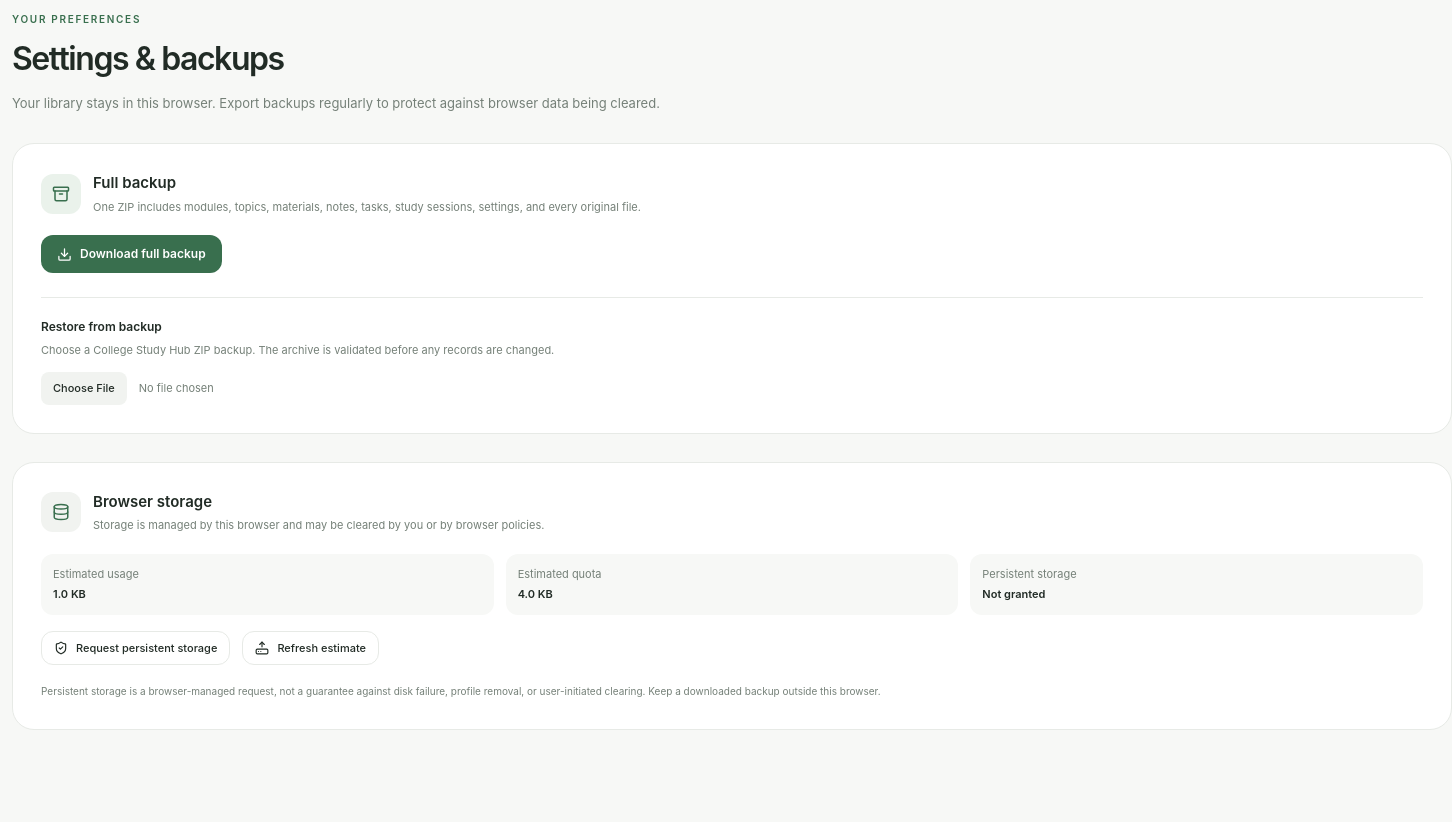
Test: SettingsPage storage controls › shows usage and quota and reports a denied persistence request
Check: the text "1.0 KB" is shown, box x1=53 y1=587 x2=86 y2=601
Check: the text "4.0 KB" is shown, box x1=518 y1=587 x2=553 y2=601
Click the button "Request persistent storage": (136, 648) x1=41 y1=630 x2=230 y2=665
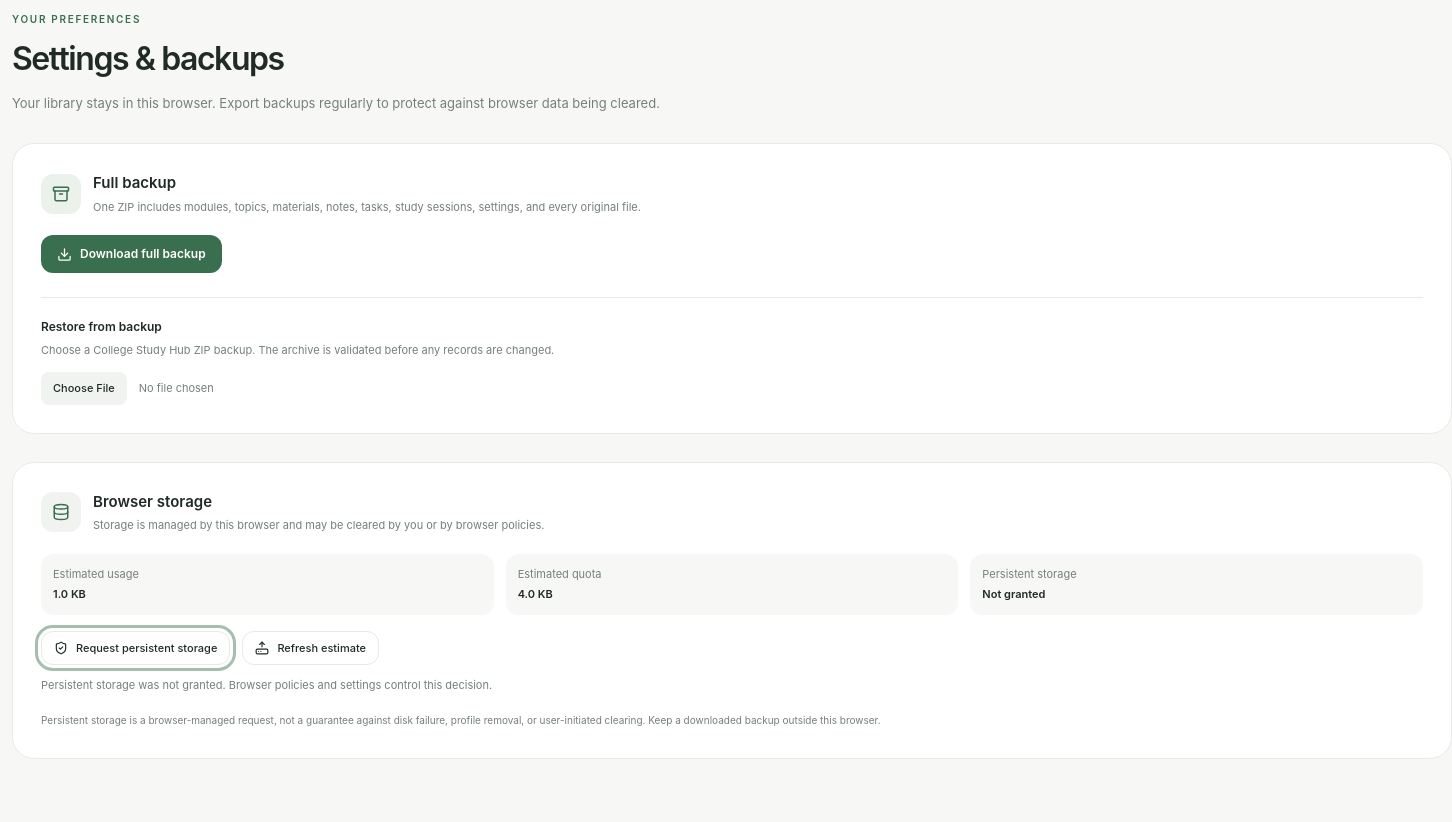
Check: the text "was not granted" is shown, box x1=41 y1=678 x2=492 y2=692
